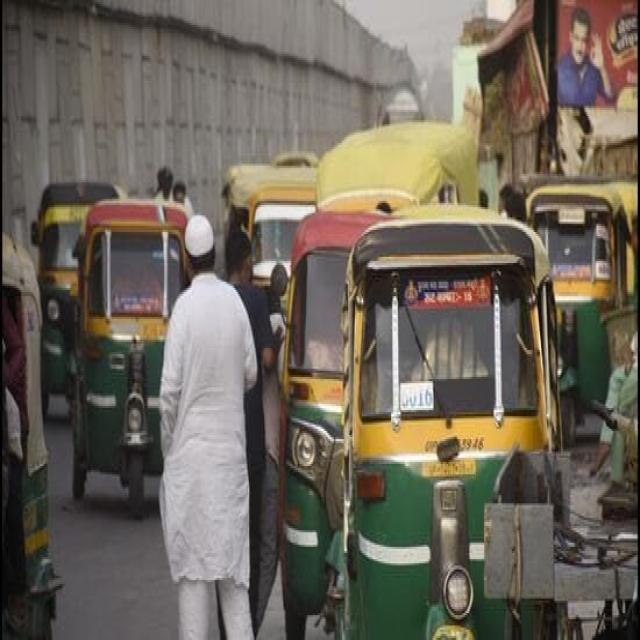autorickshaw: (345, 205, 563, 637), (280, 214, 379, 637), (73, 200, 186, 515), (526, 182, 637, 445), (31, 182, 124, 415)
